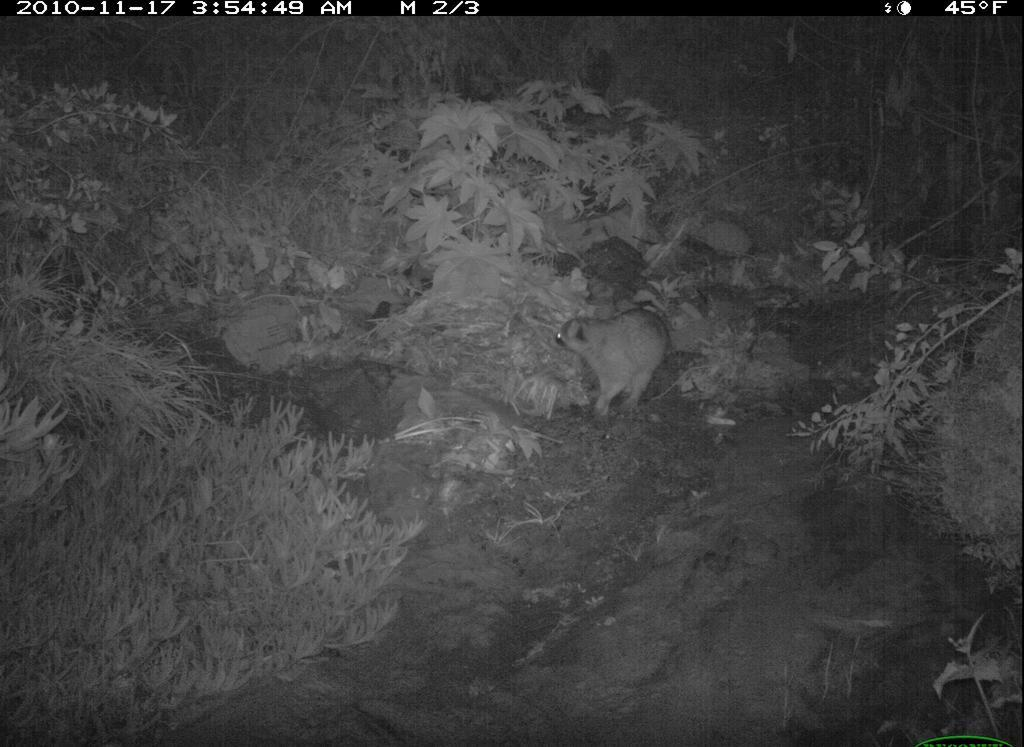raccoon: (547, 303, 683, 425)
